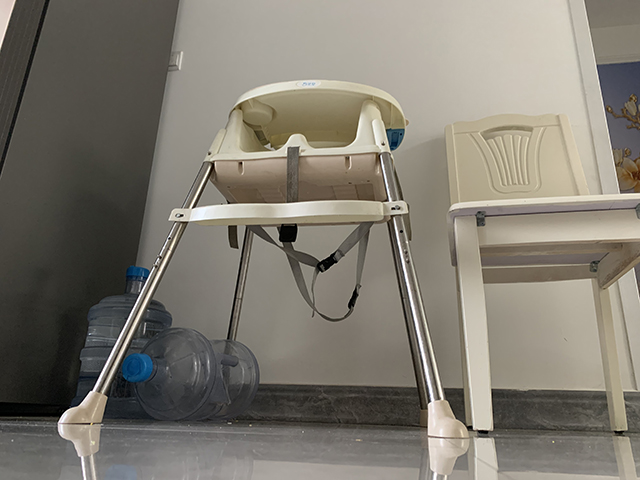stool: (57, 78, 470, 439), (440, 110, 640, 439)
